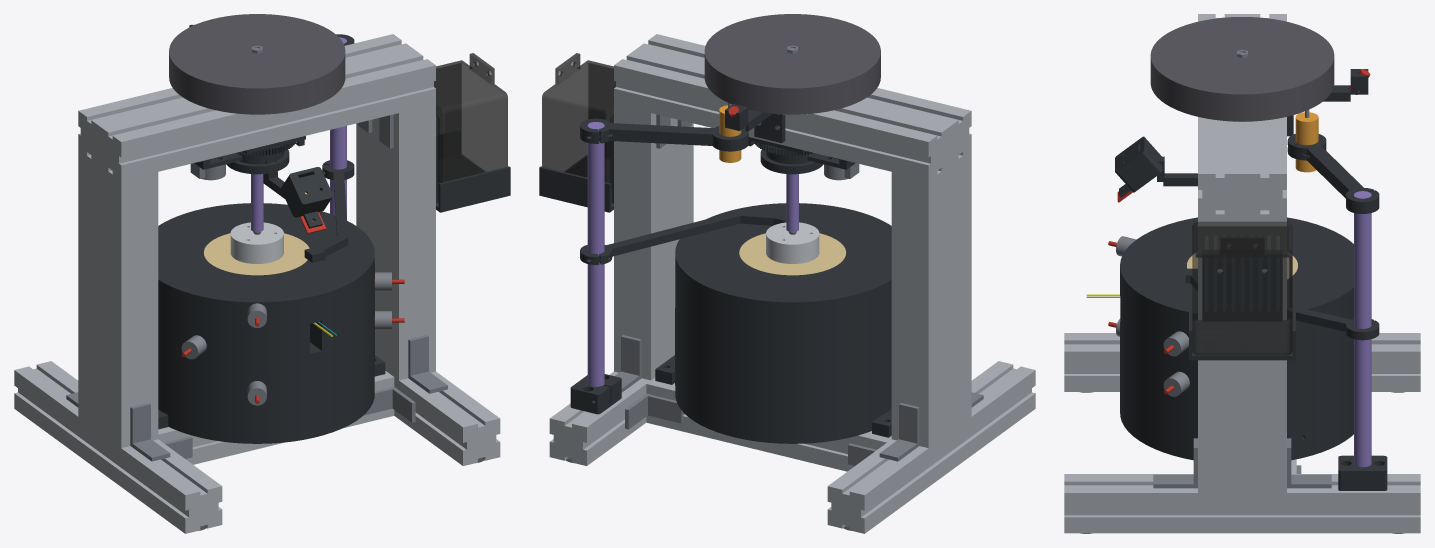
The model's file is E7_sestava_final.glb.
3 renders of one model, left to right at view 1: azimuth 30°, elevation 25°; view 2: azimuth 150°, elevation 25°; view 3: azimuth 270°, elevation 25°, orthographic. The views are drawn at different scales.
Parts seen in each view (by area): view 1: cell PETG D220x146 flat top, variant U, T01 column 40x80 slot 8 x276 L, T04 top beam 40x80 x340, hole D14, T01 column 40x80 slot 8 x276 R, T02 base rail 40x40 x320 L, L07 steel disc 0.5 kg, P06 box with RPi Zero 2 W (on the column), T02 base rail 40x40 x320 R, P18 RPi box bracket (print), T03 base cross bar 40x80 x260, unsaturated sand D100x100, P03 target arm (print) (+13 smaller); view 2: cell PETG D220x146 flat top, variant U, T01 column 40x80 slot 8 x276 L, T04 top beam 40x80 x340, hole D14, T01 column 40x80 slot 8 x276 R, T02 base rail 40x40 x320 L, L07 steel disc 0.5 kg, P06 box with RPi Zero 2 W (on the column), Invar 36 post D16 x283, T02 base rail 40x40 x320 R, T03 base cross bar 40x80 x260, P02 LVDT arm (print), P03 target arm (print) (+15 smaller); view 3: cell PETG D220x146 flat top, variant U, T02 base rail 40x40 x320 R, T01 column 40x80 slot 8 x276 R, P06 box with RPi Zero 2 W (on the column), L07 steel disc 0.5 kg, P18 RPi box bracket (print), T04 top beam 40x80 x340, hole D14, T02 base rail 40x40 x320 L, Invar 36 post D16 x283, P02 LVDT arm (print), P14 camera arm + head (print), P04 post foot (print) (+12 smaller).
Boxes of the visible parts, x1=… form: cell PETG D220x146 flat top, variant U: x1=158, y1=203, x2=374, y2=443; T01 column 40x80 slot 8 x276 L: x1=78, y1=149, x2=158, y2=448; T04 top beam 40x80 x340, hole D14: x1=78, y1=34, x2=435, y2=180; T01 column 40x80 slot 8 x276 R: x1=356, y1=104, x2=435, y2=380; T02 base rail 40x40 x320 L: x1=14, y1=361, x2=222, y2=533; L07 steel disc 0.5 kg: x1=169, y1=14, x2=345, y2=91; P06 box with RPi Zero 2 W (on the column): x1=434, y1=53, x2=507, y2=202; T02 base rail 40x40 x320 R: x1=394, y1=371, x2=500, y2=465; P18 RPi box bracket (print): x1=436, y1=134, x2=510, y2=212; T03 base cross bar 40x80 x260: x1=158, y1=371, x2=394, y2=464; unsaturated sand D100x100: x1=203, y1=233, x2=309, y2=275; P03 target arm (print): x1=304, y1=160, x2=354, y2=262; cell PETG D220x146 flat top, variant U: x1=675, y1=203, x2=891, y2=443; T01 column 40x80 slot 8 x276 L: x1=891, y1=149, x2=971, y2=448; T04 top beam 40x80 x340, hole D14: x1=614, y1=34, x2=971, y2=180; T01 column 40x80 slot 8 x276 R: x1=614, y1=104, x2=693, y2=380; T02 base rail 40x40 x320 L: x1=827, y1=361, x2=1035, y2=533; L07 steel disc 0.5 kg: x1=704, y1=14, x2=880, y2=91; P06 box with RPi Zero 2 W (on the column): x1=542, y1=53, x2=615, y2=202; Invar 36 post D16 x283: x1=587, y1=122, x2=604, y2=386; T02 base rail 40x40 x320 R: x1=549, y1=371, x2=650, y2=465; T03 base cross bar 40x80 x260: x1=646, y1=378, x2=891, y2=471; P02 LVDT arm (print): x1=580, y1=118, x2=748, y2=151; P03 target arm (print): x1=580, y1=211, x2=786, y2=264; cell PETG D220x146 flat top, variant U: x1=1120, y1=217, x2=1353, y2=460; T02 base rail 40x40 x320 R: x1=1064, y1=474, x2=1420, y2=533; T01 column 40x80 slot 8 x276 R: x1=1198, y1=210, x2=1286, y2=492; P06 box with RPi Zero 2 W (on the column): x1=1192, y1=221, x2=1292, y2=355; L07 steel disc 0.5 kg: x1=1150, y1=17, x2=1334, y2=97; P18 RPi box bracket (print): x1=1189, y1=250, x2=1295, y2=360; T04 top beam 40x80 x340, hole D14: x1=1198, y1=14, x2=1286, y2=214; T02 base rail 40x40 x320 L: x1=1064, y1=333, x2=1420, y2=391; Invar 36 post D16 x283: x1=1354, y1=191, x2=1371, y2=467; P02 LVDT arm (print): x1=1287, y1=134, x2=1379, y2=213; P14 camera arm + head (print): x1=1117, y1=138, x2=1197, y2=197; P04 post foot (print): x1=1338, y1=455, x2=1387, y2=490.
Size of the model in its own units: 416 by 400 by 320.
